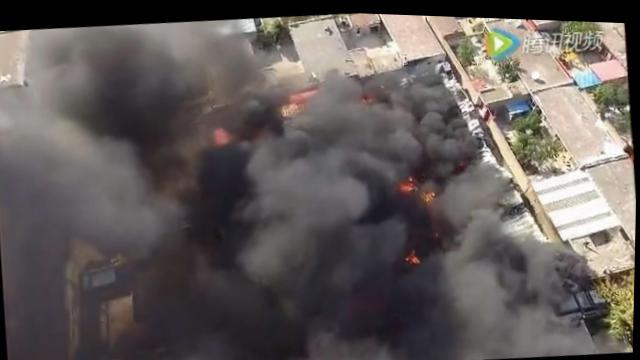fire: (405, 248, 421, 262), (399, 177, 416, 189)
